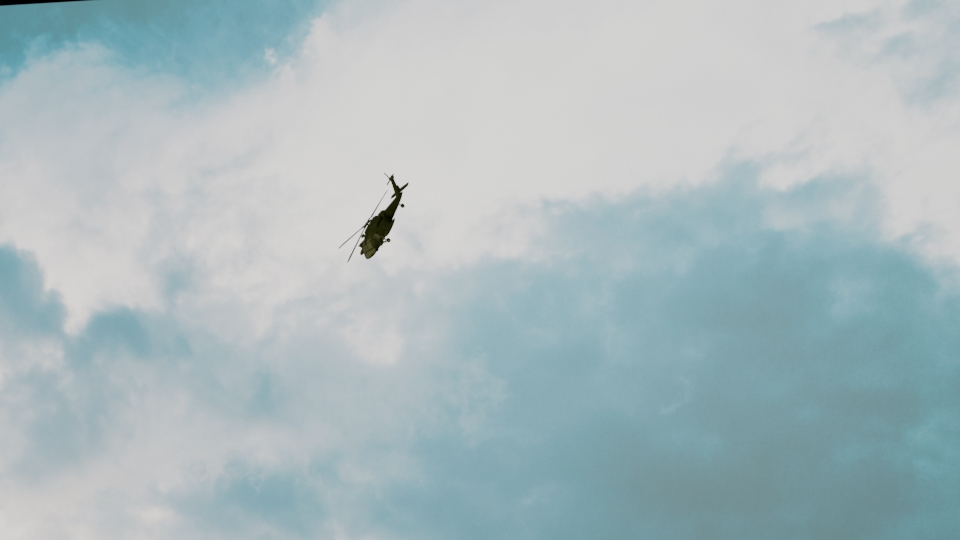heli: (341, 172, 408, 265)
